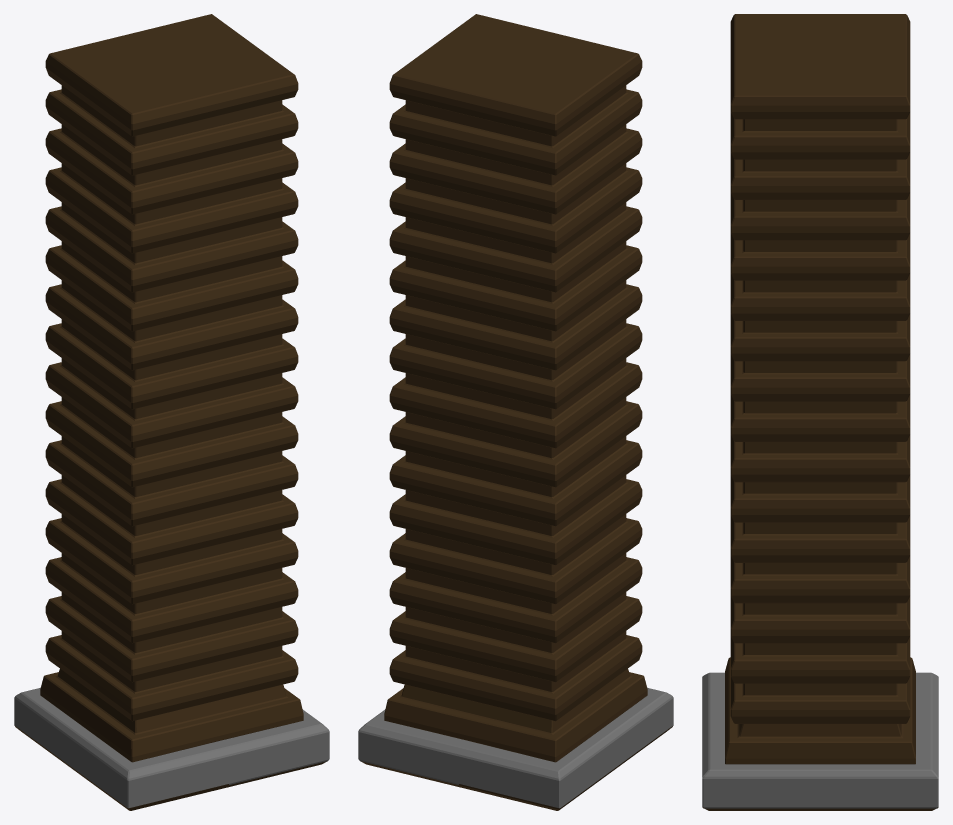
The model's file is SpawnerPipe.fbx.
3 views of the same model, side by side, from view 1: azimuth 30°, elevation 25°; view 2: azimuth 150°, elevation 25°; view 3: azimuth 270°, elevation 25° (orthographic). The views are drawn at different scales.
Visible parts, largest first — view 1: Cube; view 2: Cube; view 3: Cube.
Part boxes in pixels (left/top/right/bottom): Cube: left=14, top=14, right=329, bottom=810; Cube: left=358, top=14, right=673, bottom=810; Cube: left=702, top=14, right=938, bottom=810.
Size of the model in its own units: 241 by 780 by 236.
